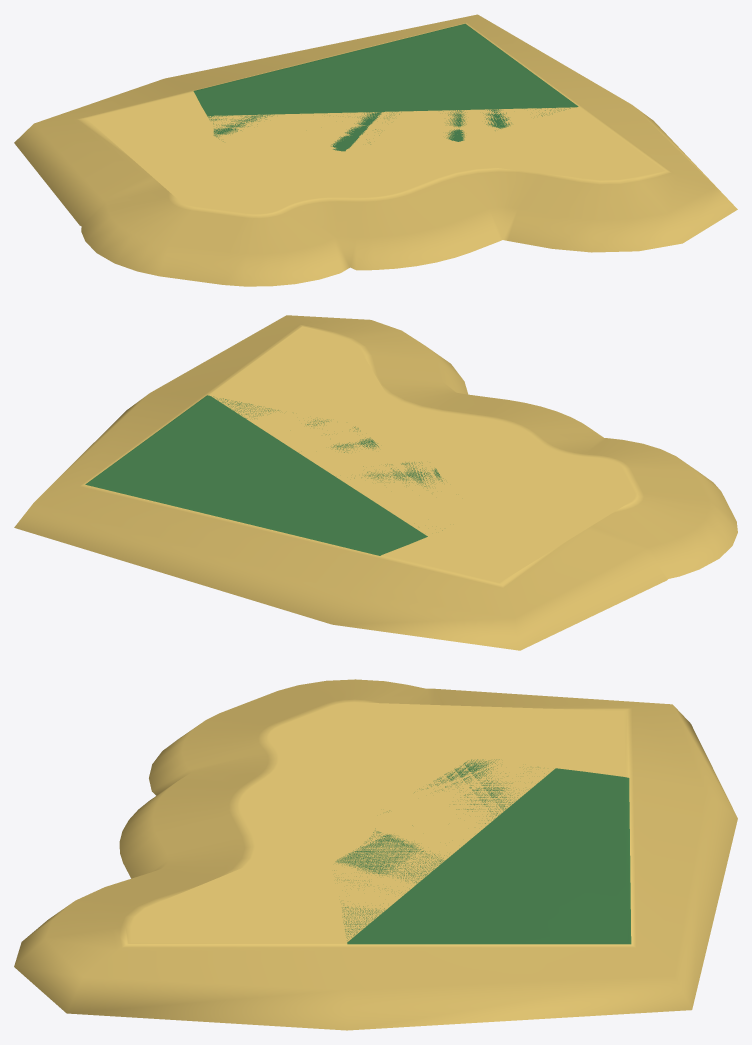
File: groundUnwrapped.fbx
3 renders of one model, top to bottom at view 1: azimuth 30°, elevation 25°; view 2: azimuth 150°, elevation 25°; view 3: azimuth 270°, elevation 25°, orthographic. The views are drawn at different scales.
Visible parts, largest first — view 1: unwrappedGroundMesh; view 2: unwrappedGroundMesh; view 3: unwrappedGroundMesh.
Boxes of the visible parts, x1=… form: unwrappedGroundMesh: x1=14, y1=14, x2=737, y2=286; unwrappedGroundMesh: x1=14, y1=315, x2=737, y2=650; unwrappedGroundMesh: x1=14, y1=679, x2=737, y2=1030.
Size of the model in its own units: 8115 by 453 by 7343.
